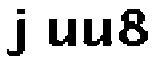8: (118, 4, 150, 50)
j: (5, 6, 32, 60)
u: (44, 15, 79, 51), (82, 14, 114, 51)
